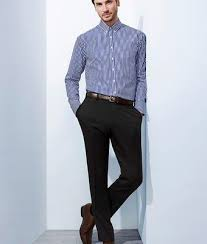F_belt: (81, 89, 140, 114)
F_dress pants: (73, 98, 144, 242)
